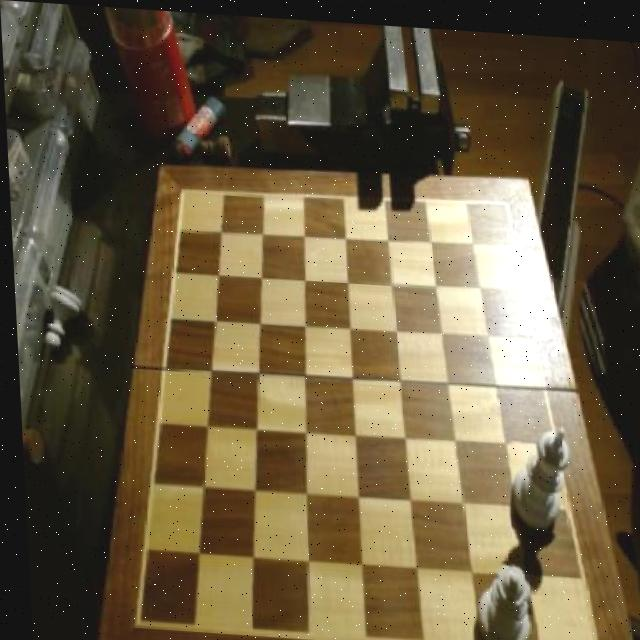white-bishop: (505, 415, 569, 527)
white-pawn: (468, 552, 534, 640)
